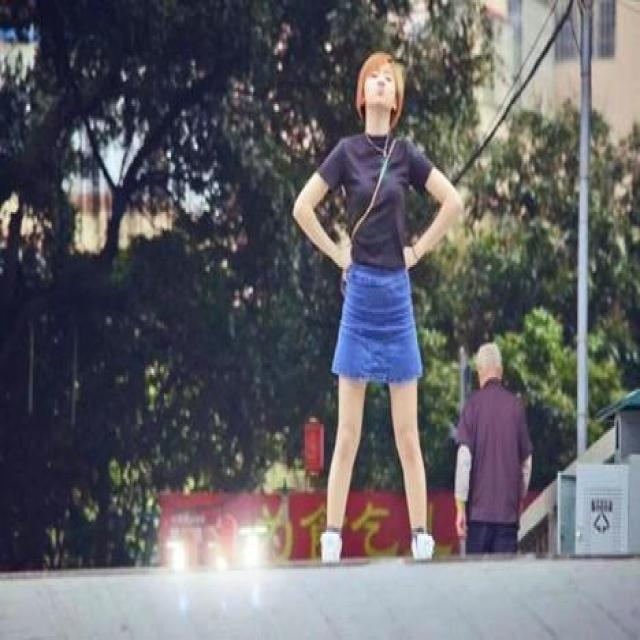short sleeve top: (317, 132, 435, 269), (458, 385, 532, 520)
skirt: (331, 263, 421, 377)
